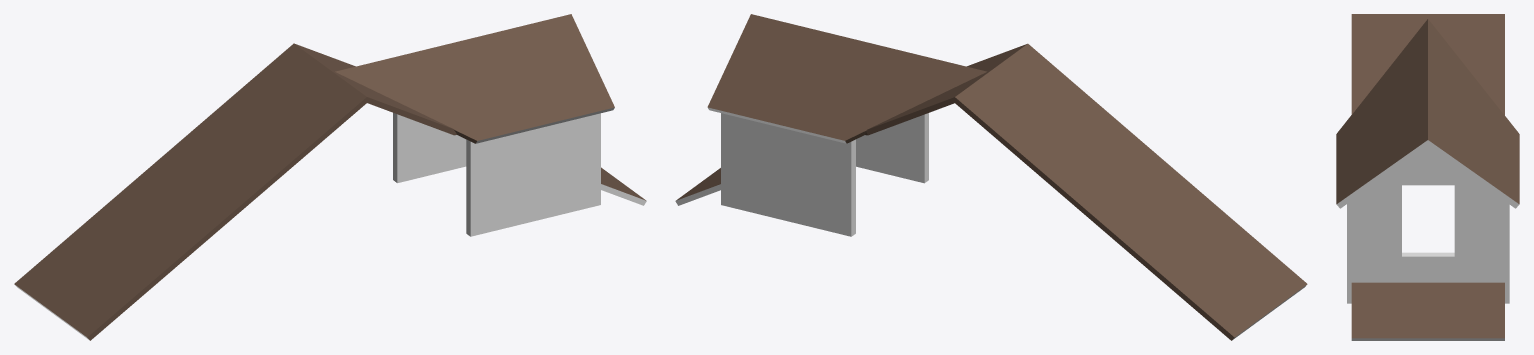
Rendered from Roof4_C2_04.fbx.
3 views of the same model, side by side, from view 1: azimuth 30°, elevation 25°; view 2: azimuth 150°, elevation 25°; view 3: azimuth 270°, elevation 25° (orthographic). The views are drawn at different scales.
Visible parts, largest first — view 1: Roof4_C2_04; view 2: Roof4_C2_04; view 3: Roof4_C2_04.
Boxes of the visible parts, x1,y1,x2,y2 form: Roof4_C2_04: [14, 14, 646, 340]; Roof4_C2_04: [675, 14, 1307, 340]; Roof4_C2_04: [1336, 14, 1519, 340].
Bounding box in the file's own units: 1105 × 333 × 298.
